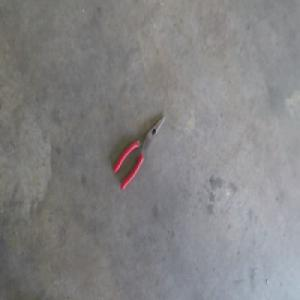Pliers: (113, 113, 166, 191)
